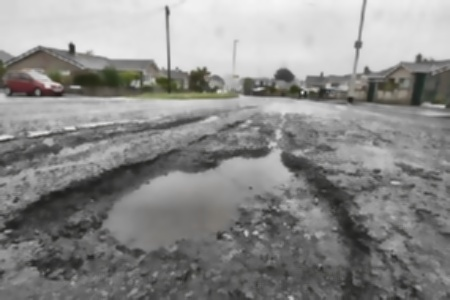pothole: (0, 142, 374, 299)
